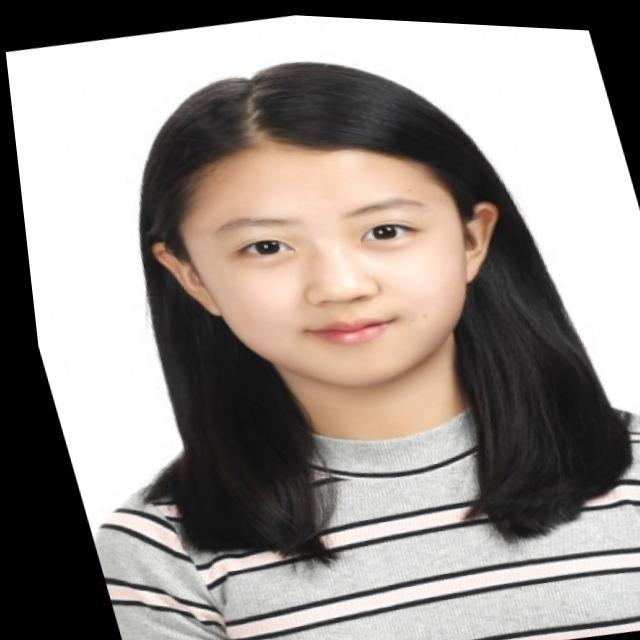Nonhelmet: (129, 56, 523, 389)
